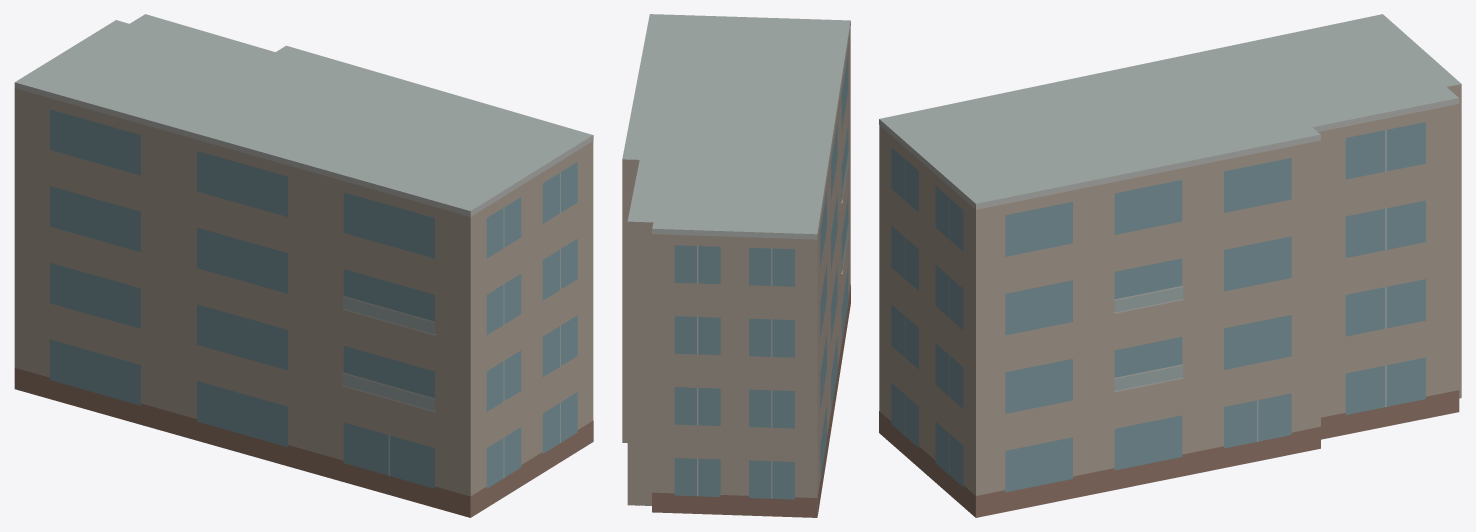
Rendered from survey-upis-33041370.glb.
3 renders of one model, left to right at view 1: azimuth 30°, elevation 25°; view 2: azimuth 150°, elevation 25°; view 3: azimuth 270°, elevation 25°, orthographic. The views are drawn at different scales.
Parts seen in each view (by area): view 1: survey-upis-33041370.tmp; view 2: survey-upis-33041370.tmp; view 3: survey-upis-33041370.tmp.
Boxes of the visible parts, box(x1,y1,x2,y2) form: survey-upis-33041370.tmp: box(14, 14, 593, 517); survey-upis-33041370.tmp: box(622, 14, 850, 517); survey-upis-33041370.tmp: box(879, 14, 1461, 517).
Bounding box in the file's own units: 16.73 × 12.9 × 21.7.
